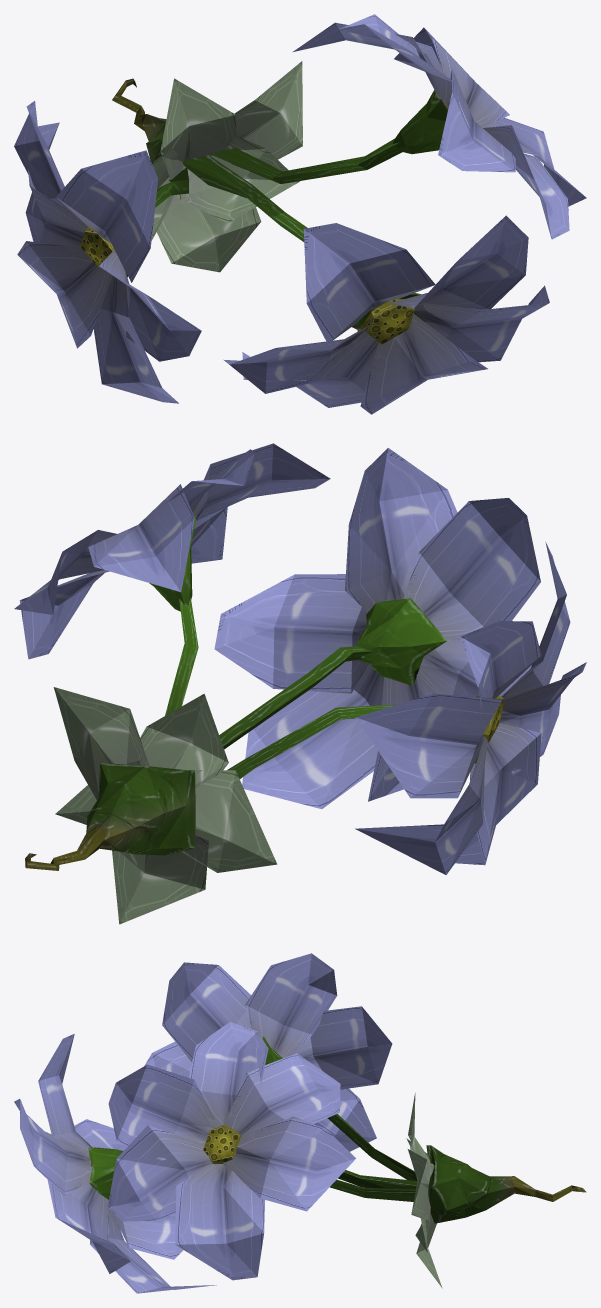
Rendered from PurpleFlower.obj.
The picture shows the model from 3 angles, top to bottom: view 1: azimuth 30°, elevation 25°; view 2: azimuth 150°, elevation 25°; view 3: azimuth 270°, elevation 25°; orthographic projection. The views are drawn at different scales.
Parts seen in each view (by area): view 1: Object.1; view 2: Object.1; view 3: Object.1.
Boxes of the visible parts, x1=… form: Object.1: x1=14, y1=14, x2=586, y2=414; Object.1: x1=14, y1=443, x2=586, y2=924; Object.1: x1=14, y1=953, x2=586, y2=1293.
Bounding box in the file's own units: 606 × 420 × 782.
1 material, 1 textured.
